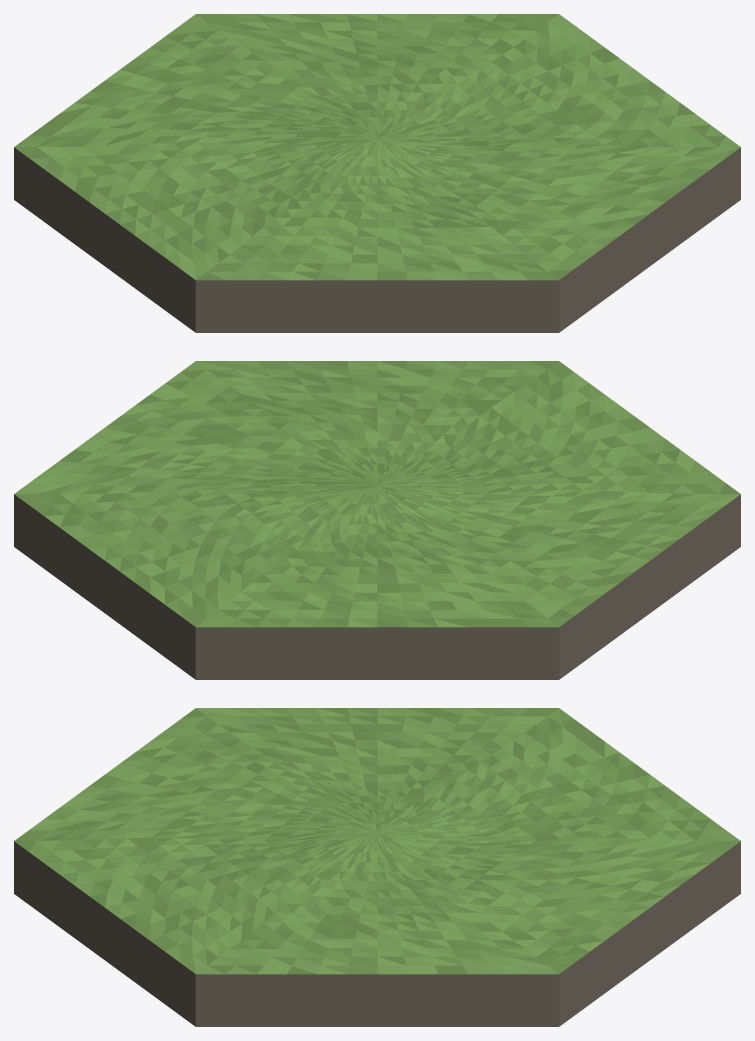
File: TERRAIN_GRASS_v02.fbx
3 views of the same model, one above another, from view 1: azimuth 30°, elevation 25°; view 2: azimuth 150°, elevation 25°; view 3: azimuth 270°, elevation 25° (orthographic).
Parts seen in each view (by area): view 1: TERRAIN_GRASS_v02; view 2: TERRAIN_GRASS_v02; view 3: TERRAIN_GRASS_v02.
Part boxes in pixels (x1,y1,x2,y2): TERRAIN_GRASS_v02: [14, 14, 740, 332]; TERRAIN_GRASS_v02: [14, 361, 740, 679]; TERRAIN_GRASS_v02: [14, 708, 740, 1026].
Bounding box in the file's own units: 173 × 18.58 × 200.
